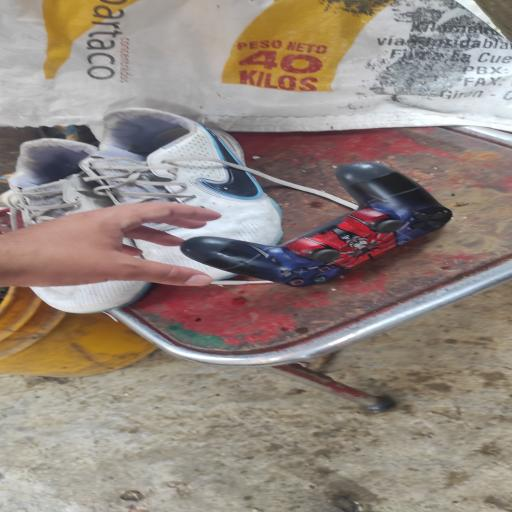ControlPlay4: (183, 162, 451, 288)
